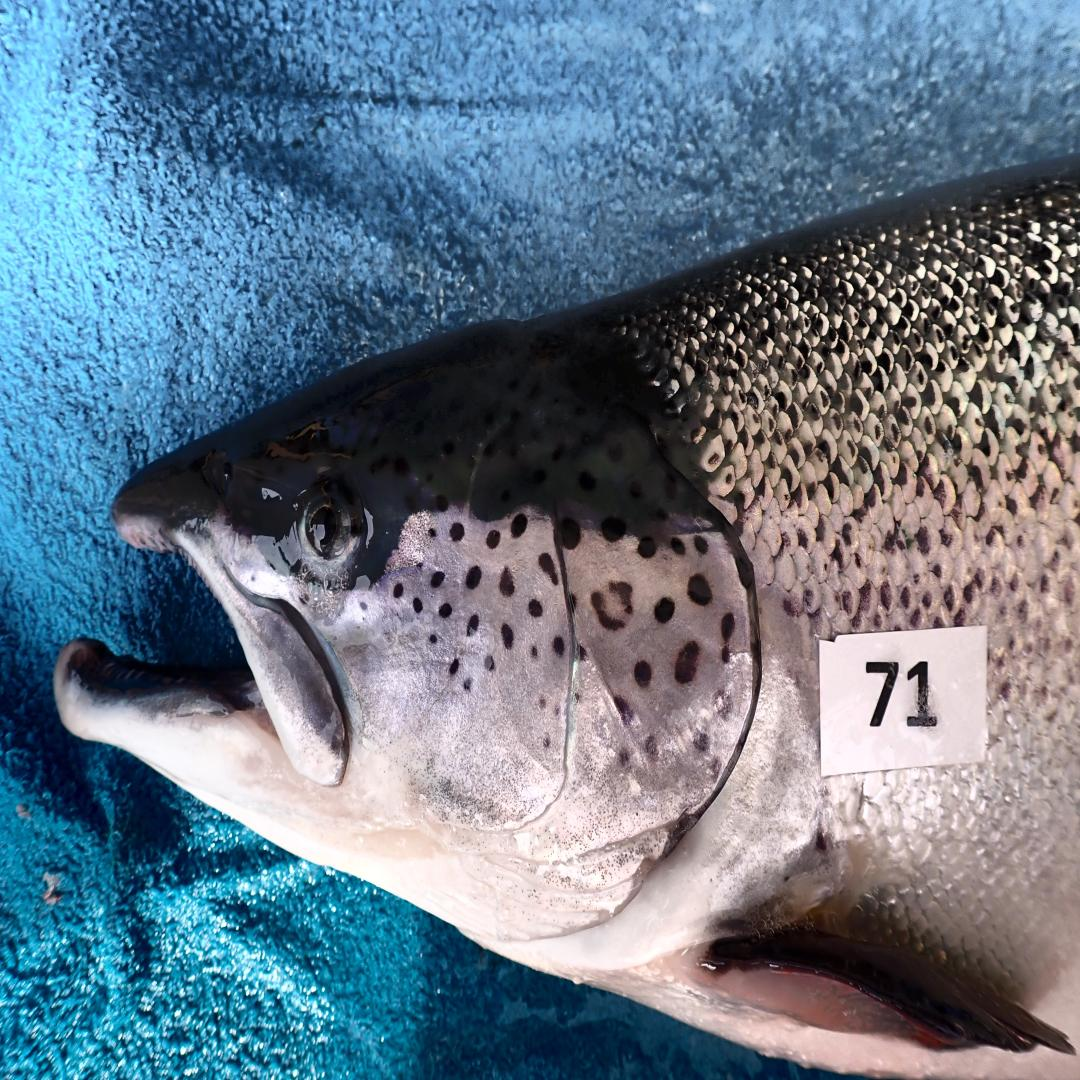spot: (591, 591, 624, 631), (674, 640, 700, 684), (687, 573, 712, 606), (610, 581, 634, 614), (721, 612, 735, 662), (600, 517, 626, 542), (561, 517, 580, 550), (538, 553, 558, 584), (654, 597, 675, 624), (614, 696, 633, 725), (634, 660, 652, 687), (499, 567, 515, 596), (637, 536, 657, 558), (511, 514, 528, 538), (717, 692, 732, 718), (465, 566, 481, 589), (644, 736, 658, 761), (501, 624, 514, 649), (693, 732, 709, 752), (694, 534, 708, 555), (466, 614, 479, 636), (528, 599, 543, 617), (450, 522, 464, 541), (486, 530, 500, 549), (553, 636, 565, 657), (671, 537, 685, 554), (431, 571, 445, 588), (438, 603, 452, 618), (618, 746, 629, 765), (436, 495, 448, 511), (484, 655, 495, 671), (449, 658, 459, 675), (393, 582, 403, 598), (578, 643, 586, 662), (413, 597, 423, 612), (569, 593, 576, 611), (463, 677, 472, 691), (543, 734, 551, 748), (429, 633, 438, 644), (531, 645, 538, 657), (428, 527, 436, 537), (540, 696, 546, 708), (416, 563, 423, 569), (360, 603, 367, 609)
